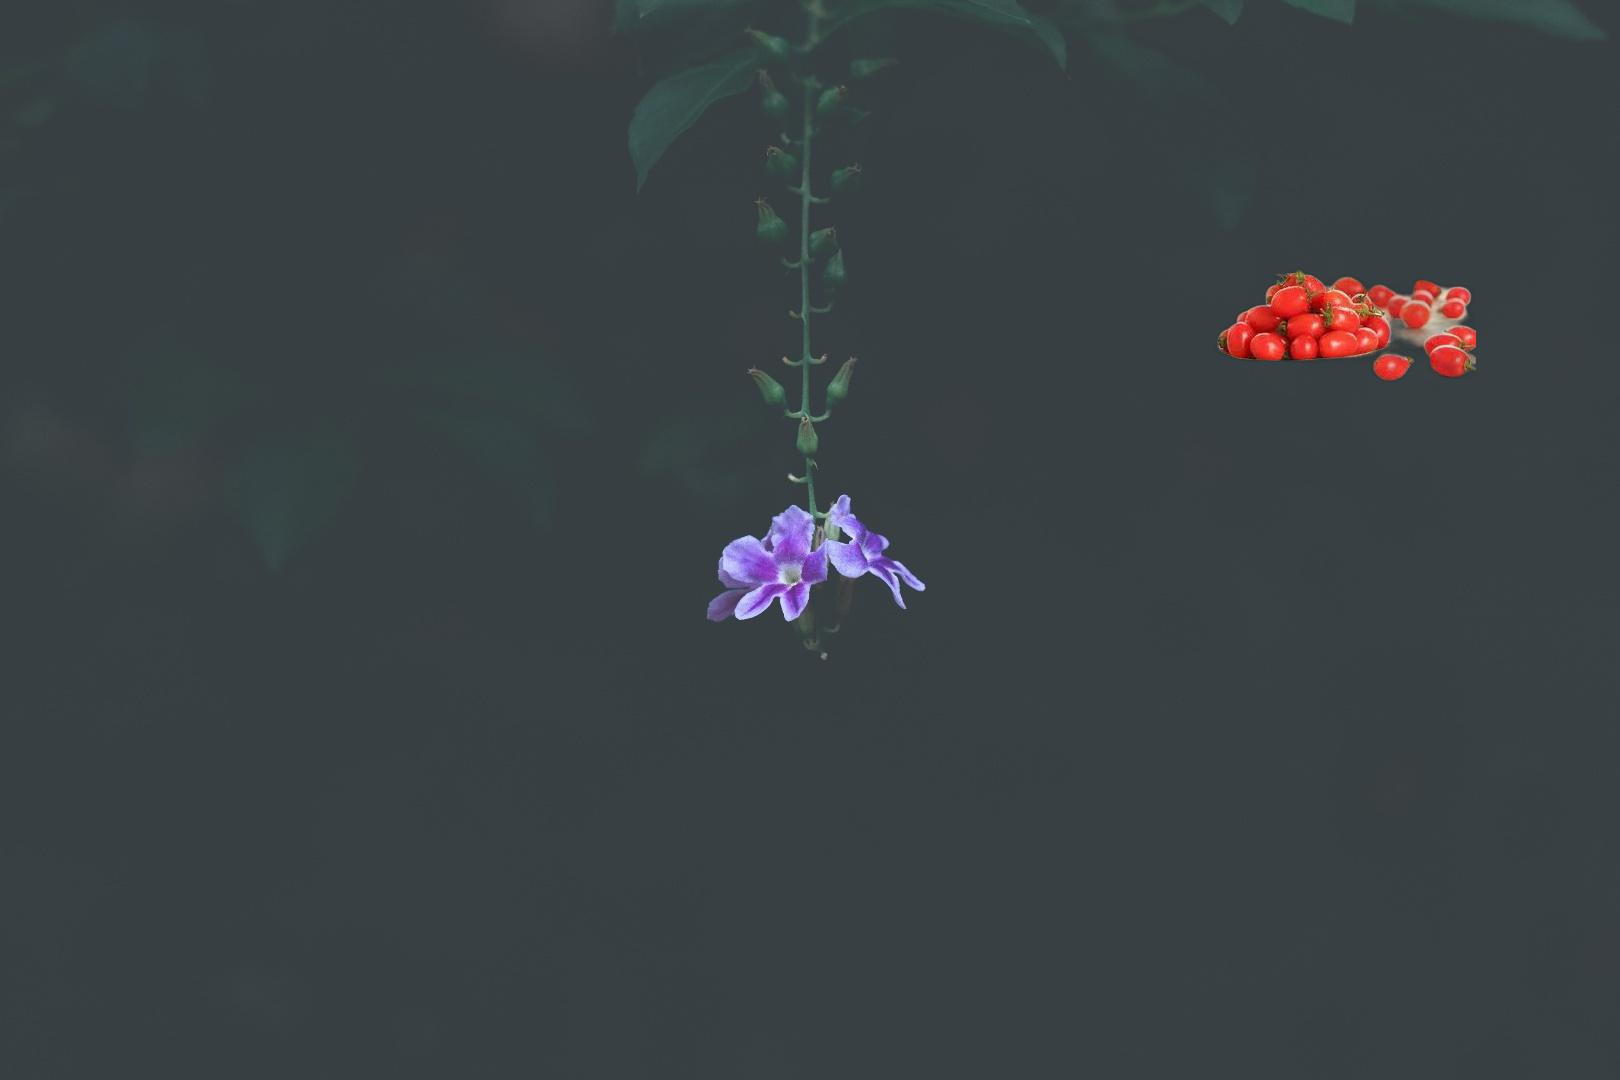biological: (1204, 265, 1477, 403)
